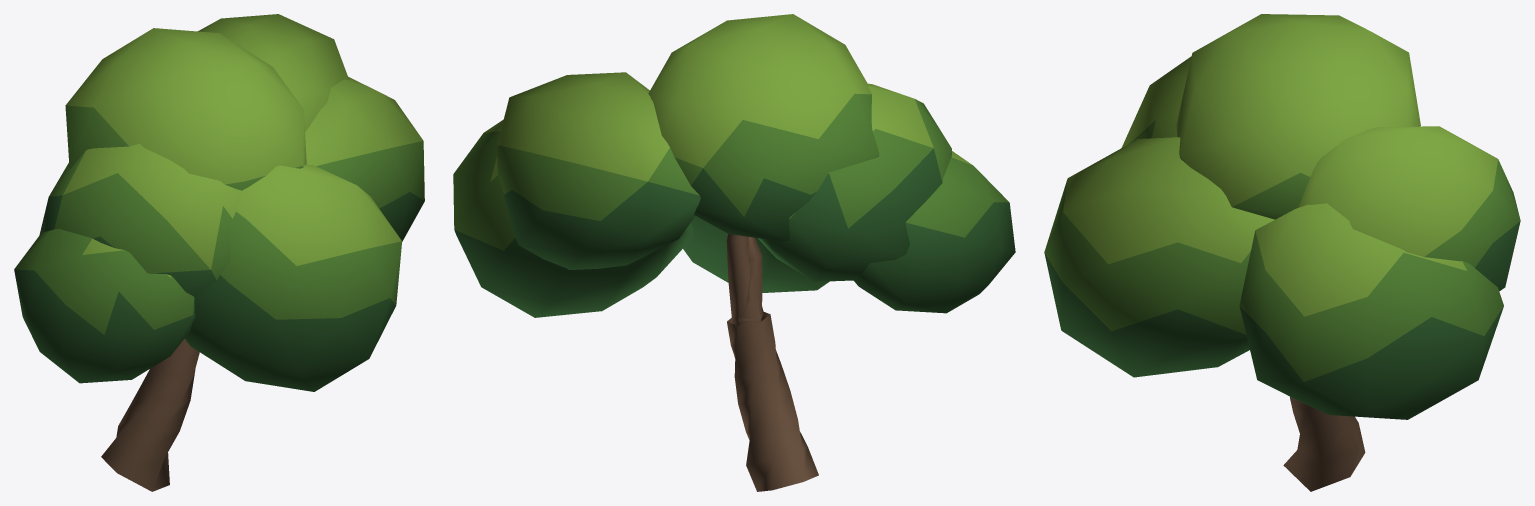
Rendered from OakLeaningB_LOD.glb.
3 renders of one model, left to right at view 1: azimuth 30°, elevation 25°; view 2: azimuth 150°, elevation 25°; view 3: azimuth 270°, elevation 25°, orthographic. The views are drawn at different scales.
Parts seen in each view (by area): view 1: OakLeaningB_LOD.leafLight, OakLeaningB_LOD.leafMid, OakLeaningB_LOD.leafDark, OakLeaningB_LOD.bark; view 2: OakLeaningB_LOD.leafDark, OakLeaningB_LOD.leafLight, OakLeaningB_LOD.leafMid, OakLeaningB_LOD.bark; view 3: OakLeaningB_LOD.leafLight, OakLeaningB_LOD.leafMid, OakLeaningB_LOD.leafDark, OakLeaningB_LOD.bark.
Boxes of the visible parts, x1,y1,x2,y2 form: OakLeaningB_LOD.leafLight: (63, 14, 423, 277); OakLeaningB_LOD.leafMid: (14, 105, 424, 334); OakLeaningB_LOD.leafDark: (14, 168, 424, 391); OakLeaningB_LOD.bark: (101, 338, 199, 491); OakLeaningB_LOD.leafDark: (454, 148, 1015, 317); OakLeaningB_LOD.leafLight: (484, 14, 972, 181); OakLeaningB_LOD.leafMid: (453, 93, 1009, 250); OakLeaningB_LOD.bark: (726, 234, 818, 491); OakLeaningB_LOD.leafLight: (1063, 14, 1498, 316); OakLeaningB_LOD.leafMid: (1044, 120, 1520, 381); OakLeaningB_LOD.leafDark: (1044, 221, 1520, 419); OakLeaningB_LOD.bark: (1283, 397, 1365, 491).
Bounding box in the file's own units: 21.52 × 20.04 × 18.17.
